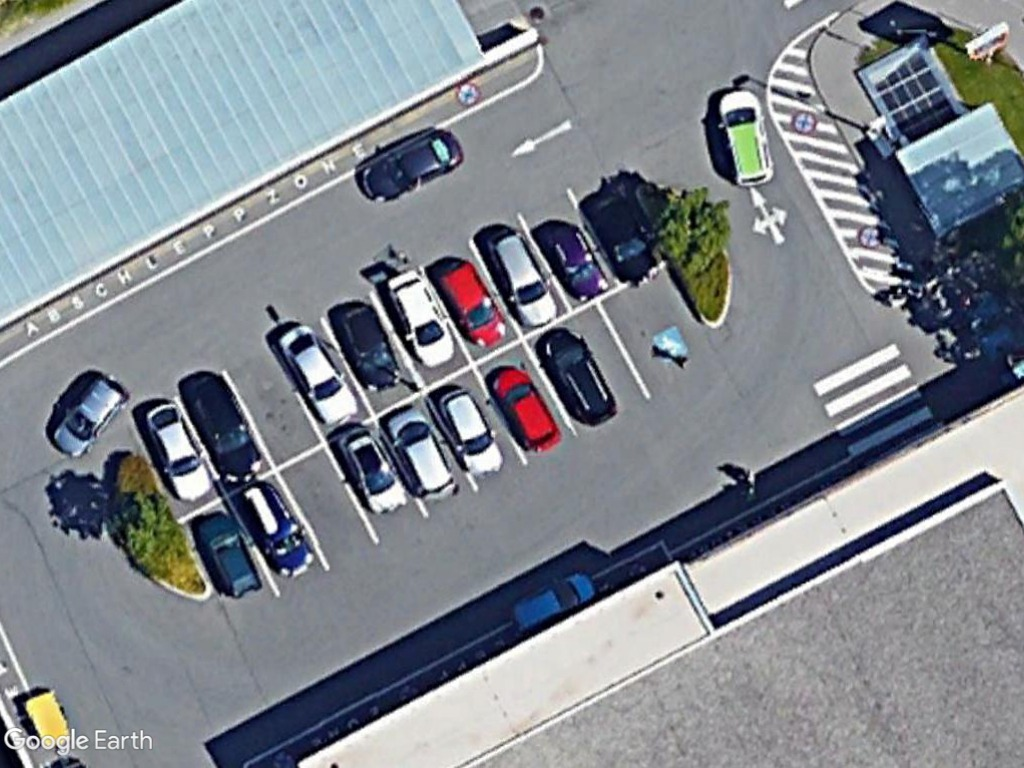car: (172, 369, 264, 484), (271, 321, 360, 429), (479, 224, 568, 331), (353, 121, 464, 205), (535, 324, 620, 430), (135, 395, 216, 505), (379, 394, 458, 502), (235, 477, 321, 576), (432, 252, 517, 350), (579, 186, 661, 286), (378, 268, 458, 370), (48, 367, 130, 462), (334, 417, 410, 513), (435, 381, 508, 477), (485, 360, 561, 452), (333, 299, 403, 398), (191, 508, 265, 600), (714, 86, 778, 191), (539, 217, 612, 305)
